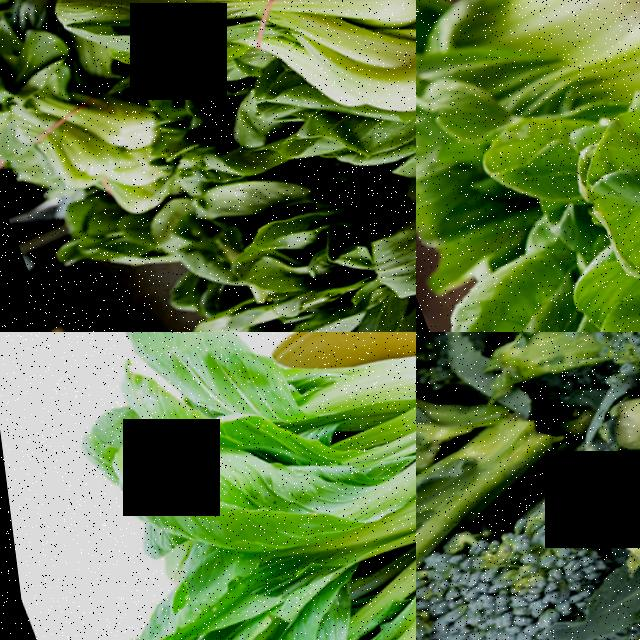bok choy: (149, 356, 416, 612), (184, 168, 416, 332), (167, 332, 416, 477), (0, 15, 133, 240), (186, 0, 416, 124), (445, 0, 640, 144), (190, 517, 416, 640), (416, 0, 640, 95), (499, 51, 640, 194)
broccoli: (416, 478, 628, 640), (416, 332, 515, 619), (556, 332, 640, 605), (477, 332, 640, 410)
